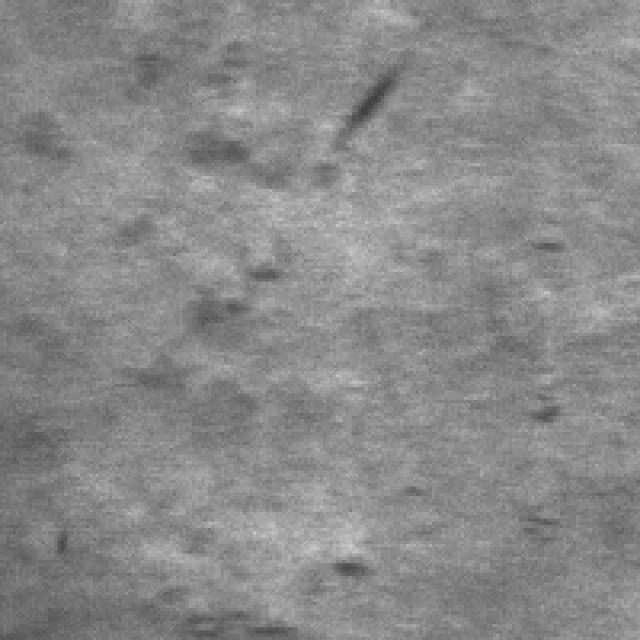rolled-in_scale: (99, 39, 259, 314), (115, 234, 298, 419), (144, 522, 378, 634), (173, 64, 336, 192)
